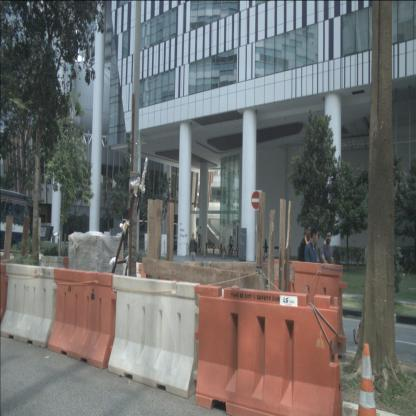human-pedestrian-adult: (297, 224, 314, 319), (304, 226, 321, 319), (320, 230, 336, 320), (189, 233, 198, 271), (263, 238, 268, 258), (228, 235, 232, 255), (230, 236, 234, 255)
movable_object-barrier: (194, 284, 343, 416), (108, 274, 202, 399), (265, 257, 348, 357), (48, 268, 119, 370), (0, 264, 60, 348), (38, 255, 66, 291)
movable_object-trafficcone: (352, 342, 382, 416)
vehicle-bus-rigid: (0, 188, 30, 278)
